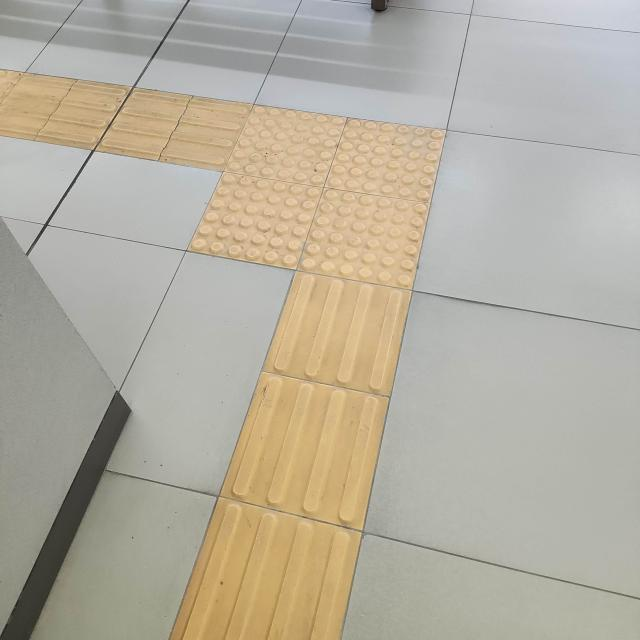kiri: (83, 43, 521, 357)
